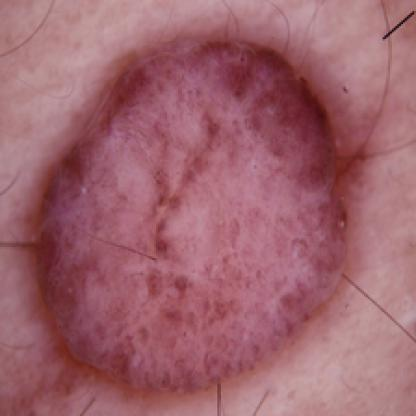benign: (22, 20, 379, 392)
